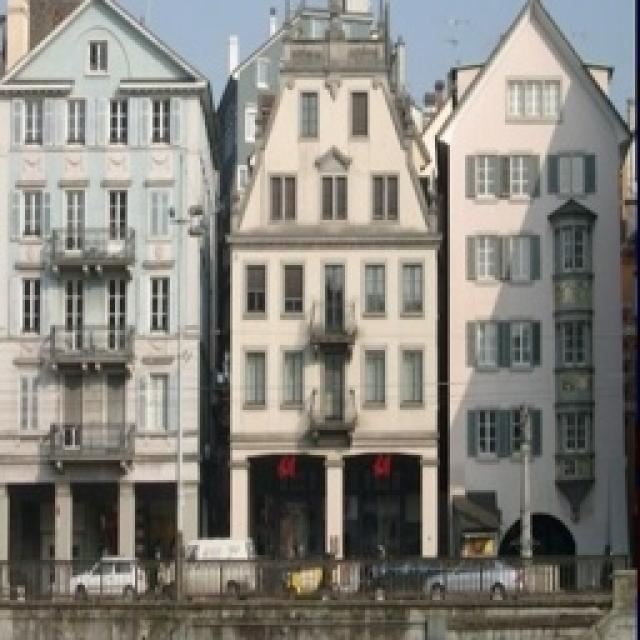building: (220, 0, 442, 558), (0, 5, 215, 570), (445, 5, 635, 577)
